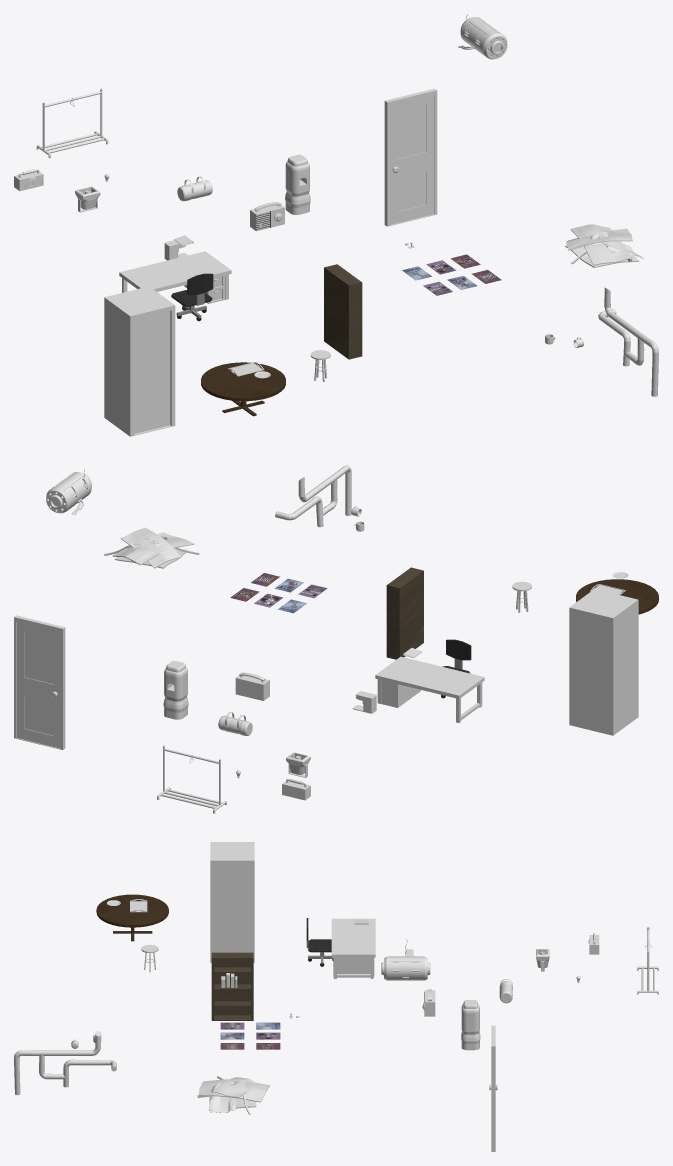
Rendered from Items Plus Mats 2.fbx.
3 renders of one model, top to bottom at view 1: azimuth 30°, elevation 25°; view 2: azimuth 150°, elevation 25°; view 3: azimuth 270°, elevation 25°, orthographic. The views are drawn at different scales.
Visible parts, largest first — view 1: Locker, Door, Bookshef, Desk, circle Table, Oxygen (idk), BIG engine, Roll chair, Scrap 2, Clothes Rack, Radio, Scrap 5; view 2: Locker, Door, Desk, Bookshef, Oxygen (idk), BIG engine, circle Table, Scrap 5, Clothes Rack, Radio, Scrap 2, Roll chair (+1 smaller); view 3: Locker, Bookshef, Desk, circle Table, BIG engine, Oxygen (idk), Scrap 2, Door, Roll chair, Scrap 5, Scrap 3.
Part boxes in pixels (x1,y1,x2,y2): Locker: (104, 286, 175, 436); Door: (384, 88, 437, 226); Bookshef: (324, 264, 362, 359); Desk: (119, 251, 231, 303); circle Table: (201, 362, 285, 416); Oxygen (idk): (285, 154, 310, 214); BIG engine: (460, 17, 507, 59); Roll chair: (171, 273, 213, 321); Scrap 2: (570, 224, 631, 265); Clothes Rack: (36, 88, 108, 158); Radio: (250, 202, 284, 231); Scrap 5: (566, 228, 632, 250); Locker: (569, 589, 638, 735); Door: (14, 615, 65, 749); Desk: (375, 656, 484, 722); Bookshef: (386, 567, 423, 659); Oxygen (idk): (163, 661, 188, 719); BIG engine: (46, 472, 91, 513); circle Table: (576, 579, 658, 614); Scrap 5: (120, 527, 181, 568); Clothes Rack: (157, 745, 226, 813); Radio: (235, 672, 269, 700); Scrap 2: (113, 532, 194, 565); Roll chair: (441, 639, 471, 698); Locker: (210, 842, 254, 962); Bookshef: (211, 952, 253, 1020); Desk: (331, 918, 375, 978); circle Table: (96, 894, 168, 941); BIG engine: (381, 956, 430, 980); Oxygen (idk): (461, 1000, 480, 1050); Scrap 2: (198, 1079, 269, 1102); Door: (489, 1025, 497, 1151); Roll chair: (306, 918, 333, 966); Scrap 5: (212, 1077, 253, 1097); Scrap 3: (209, 1082, 235, 1112).
Bounding box in the file's own units: 4321 × 1903 × 5416.
